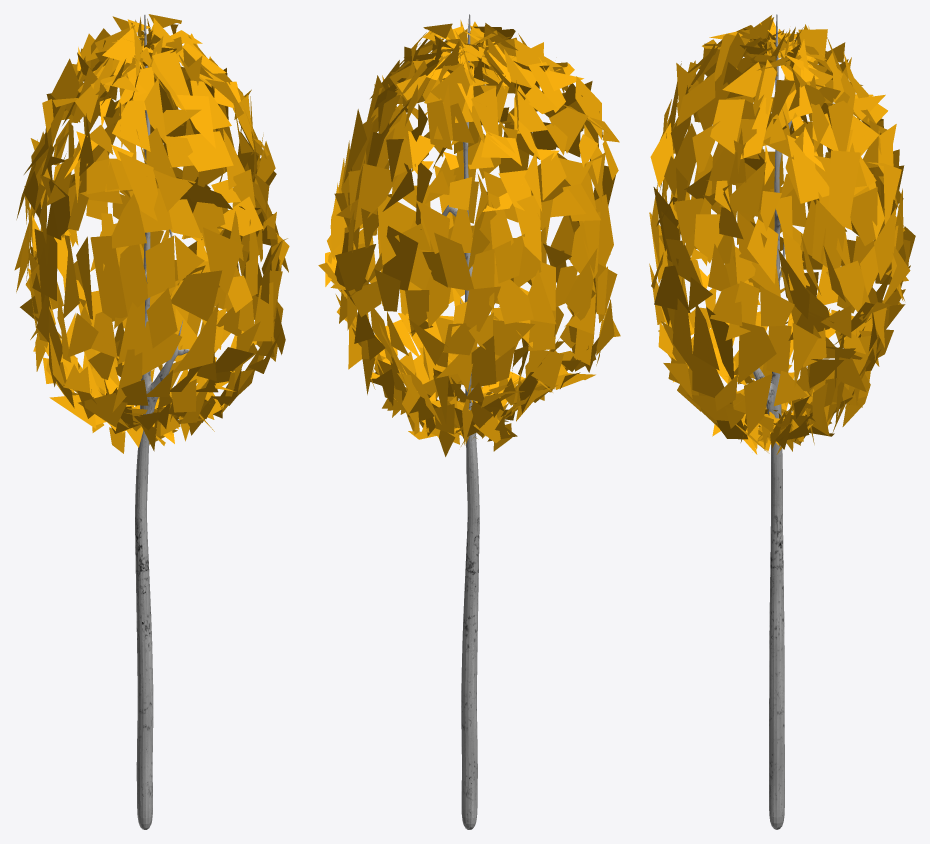
The model's file is Leaves23.fbx.
The picture shows the model from 3 angles, left to right: view 1: azimuth 30°, elevation 25°; view 2: azimuth 150°, elevation 25°; view 3: azimuth 270°, elevation 25°; orthographic projection.
Visible parts, largest first — view 1: Leaves23; view 2: Leaves23; view 3: Leaves23.
Part boxes in pixels (x1,y1,x2,y2): Leaves23: (14,14,289,829); Leaves23: (318,14,620,829); Leaves23: (649,14,915,829).
Size of the model in its own units: 816 by 2574 by 762.
2 materials, 1 textured.
